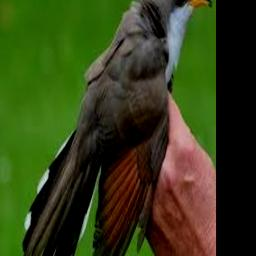Cuckoo: (22, 0, 212, 256)
